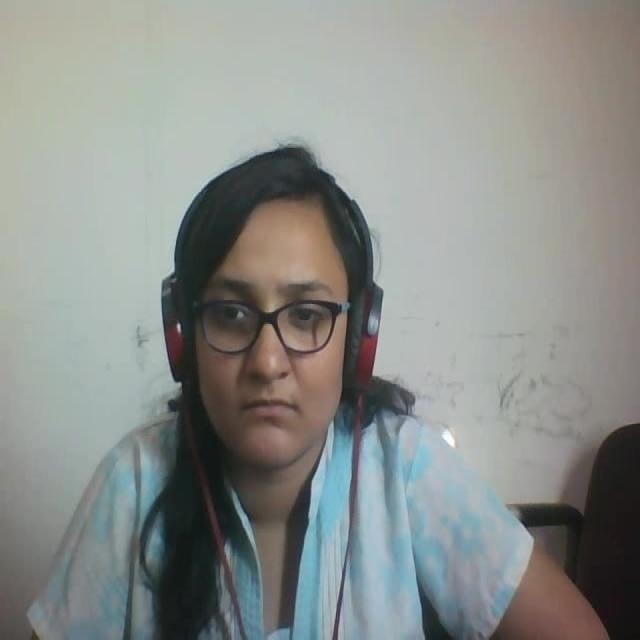Engaged: (142, 121, 406, 511)
